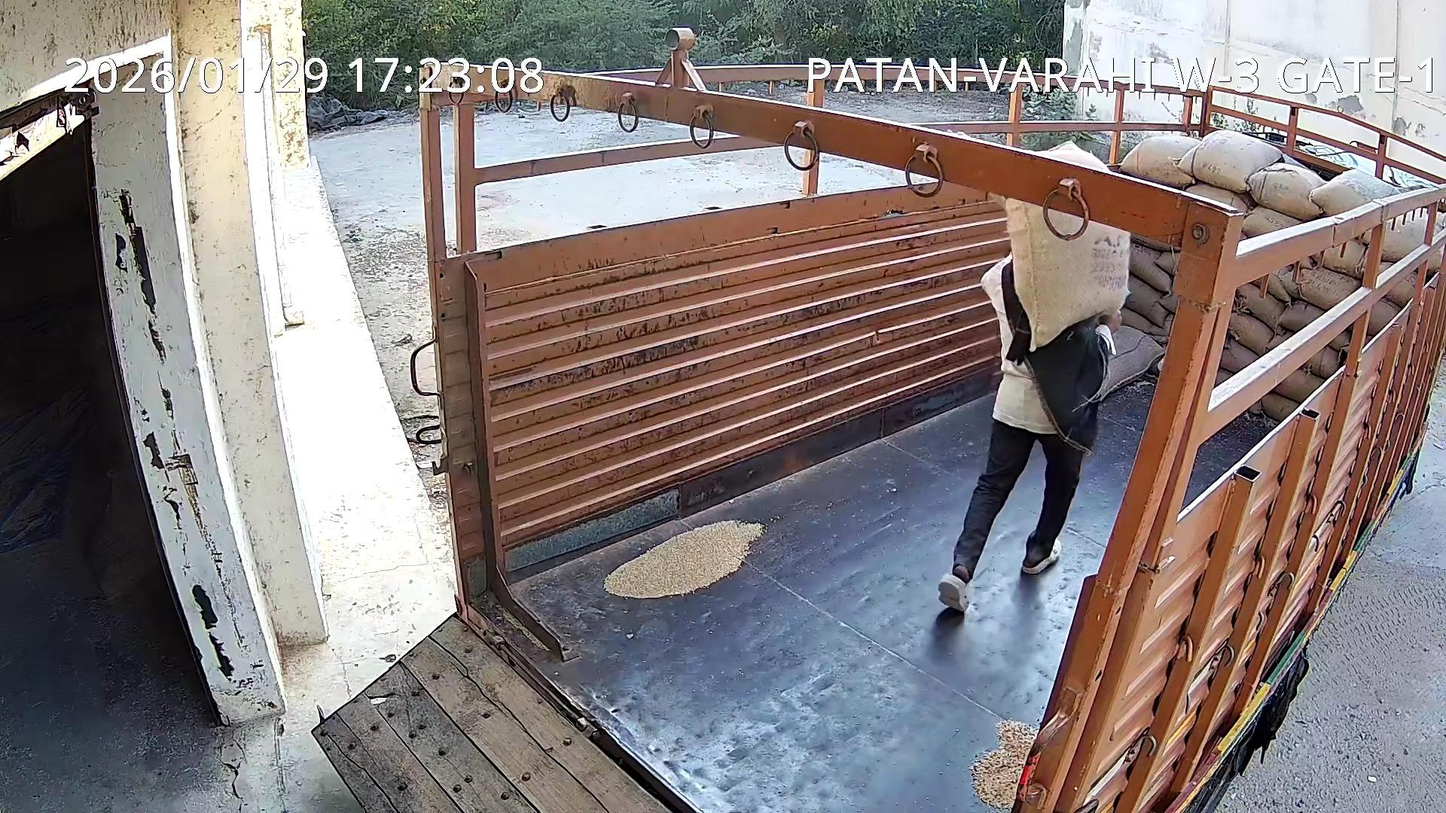Sack: (990, 178, 1130, 349), (1042, 142, 1109, 173)
